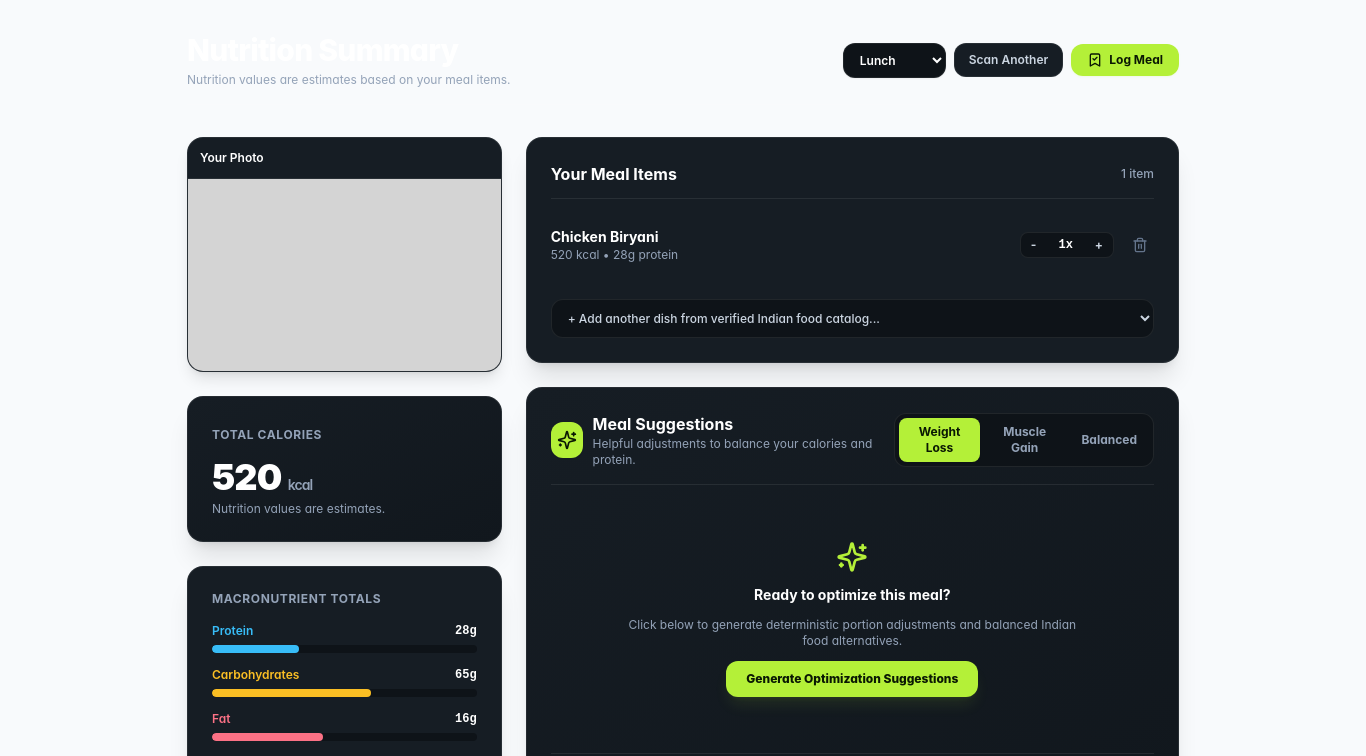
it: AnalysisResult Component - Meal Persistence & Duplicate Protection › 2. Double-click prevention: prevents duplicate meal submissions on rapid clicks
This screenshot has width=1366, height=756.
Note: Click twice rapidly
Click the button "Log Meal": (1125, 60) [1071,44,1179,76]
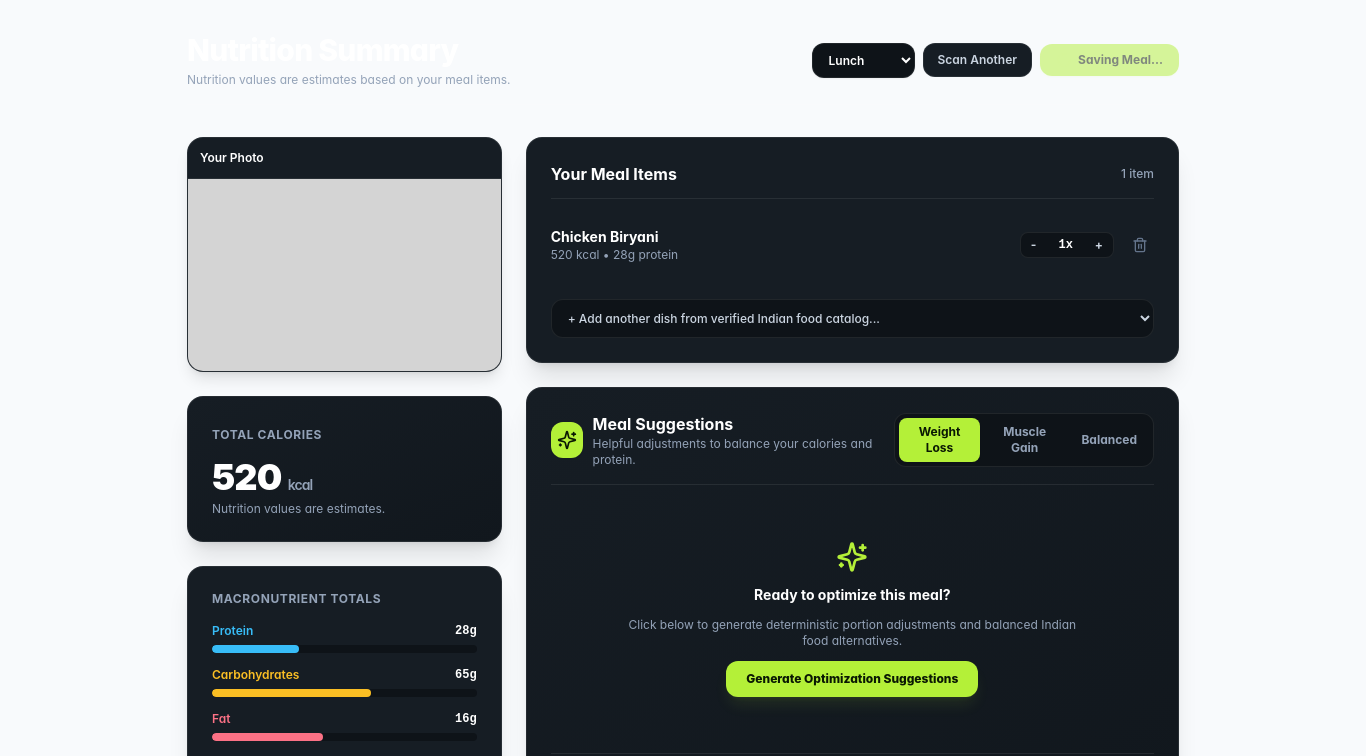
Click the button named "log meal": (1110, 60) [1040,44,1179,76]
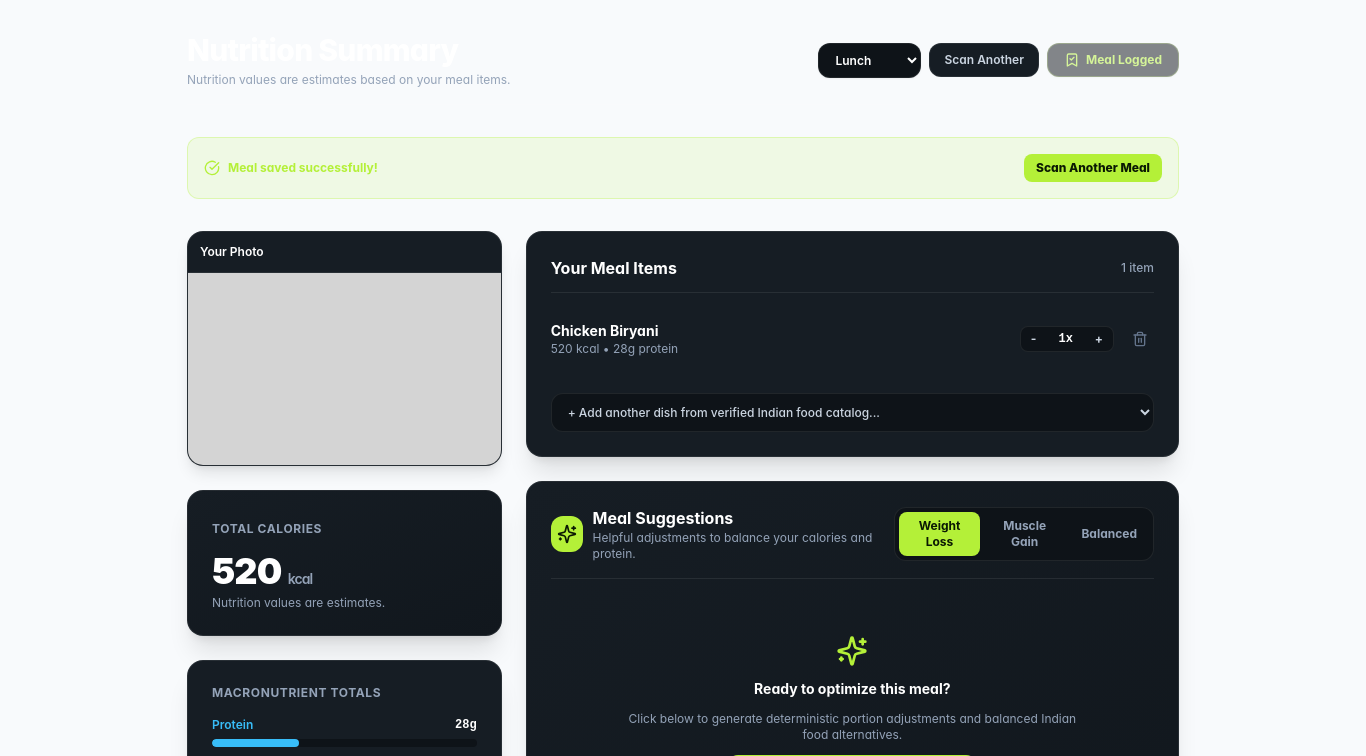
Check: the text "Meal saved successfully!" is shown, box [228,160,378,176]
